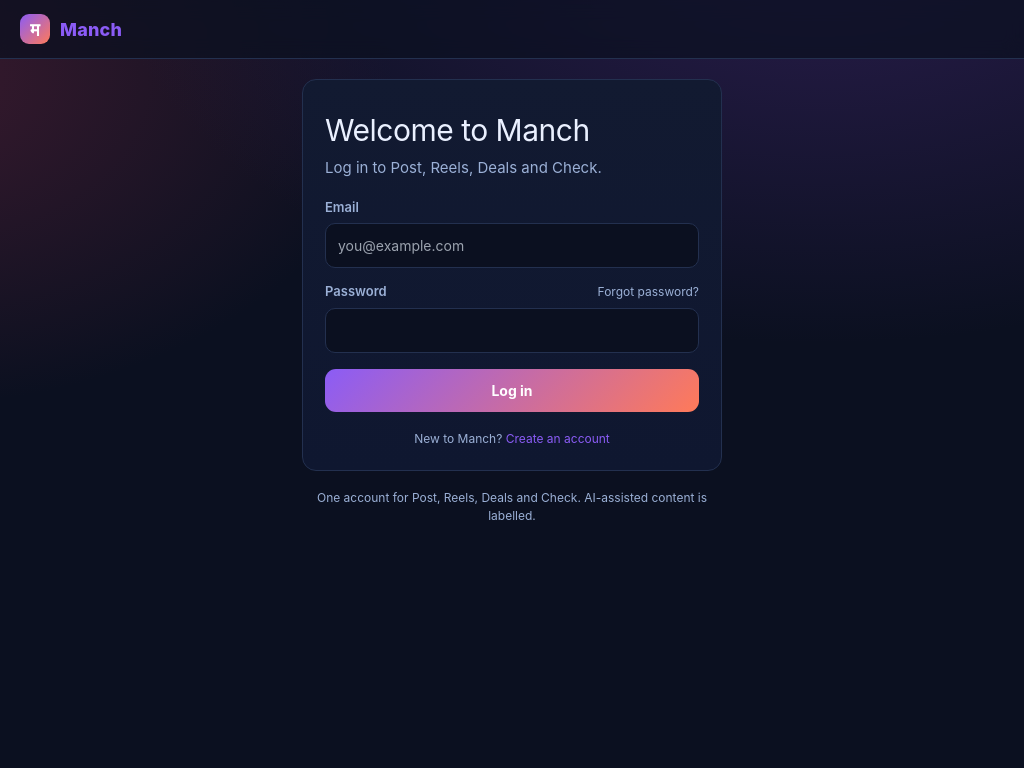
Test: Login (email + password) › shows a friendly error for wrong credentials
The image size is (1024, 768).
In the field labelled "Email": (512, 246) [325,223,699,268], type "a@b.co"
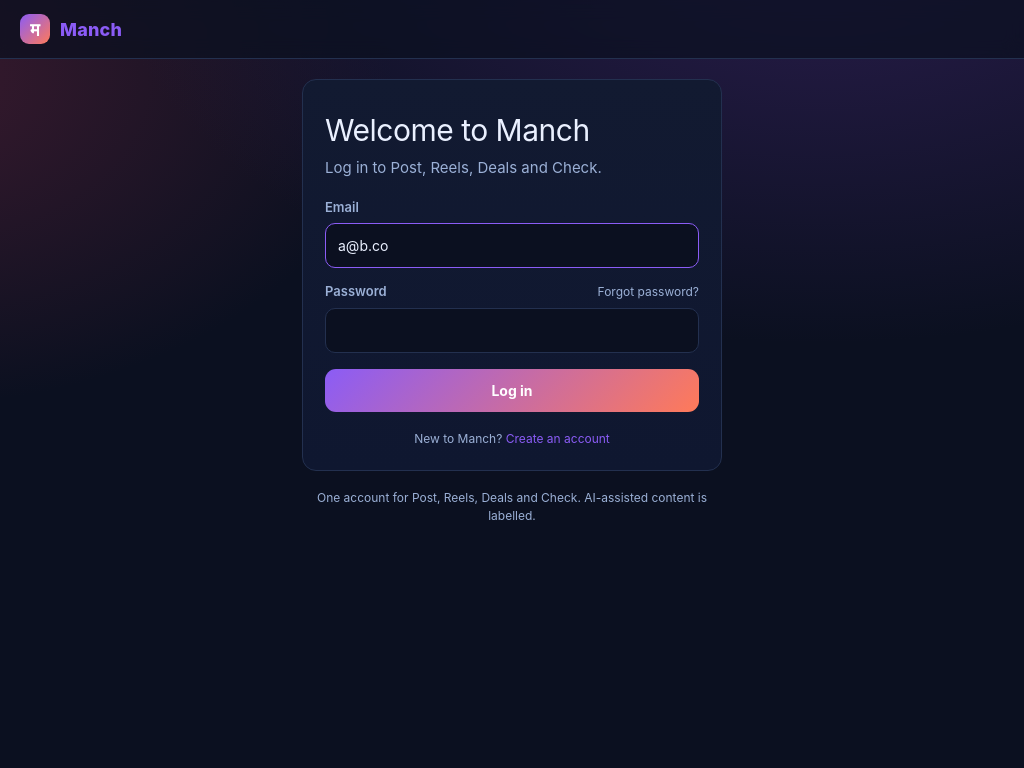
In the password field labelled "Password": (512, 330) [325,308,699,352], type "wrong1234"
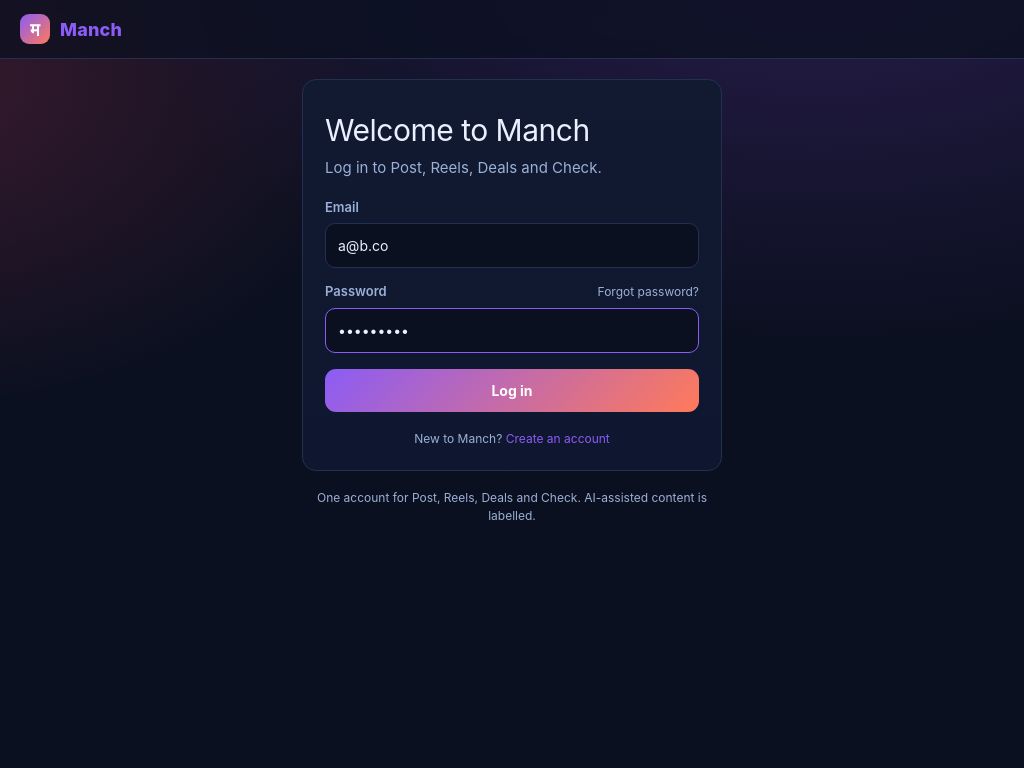
Click the button "Log in": (512, 390) [325,368,699,412]
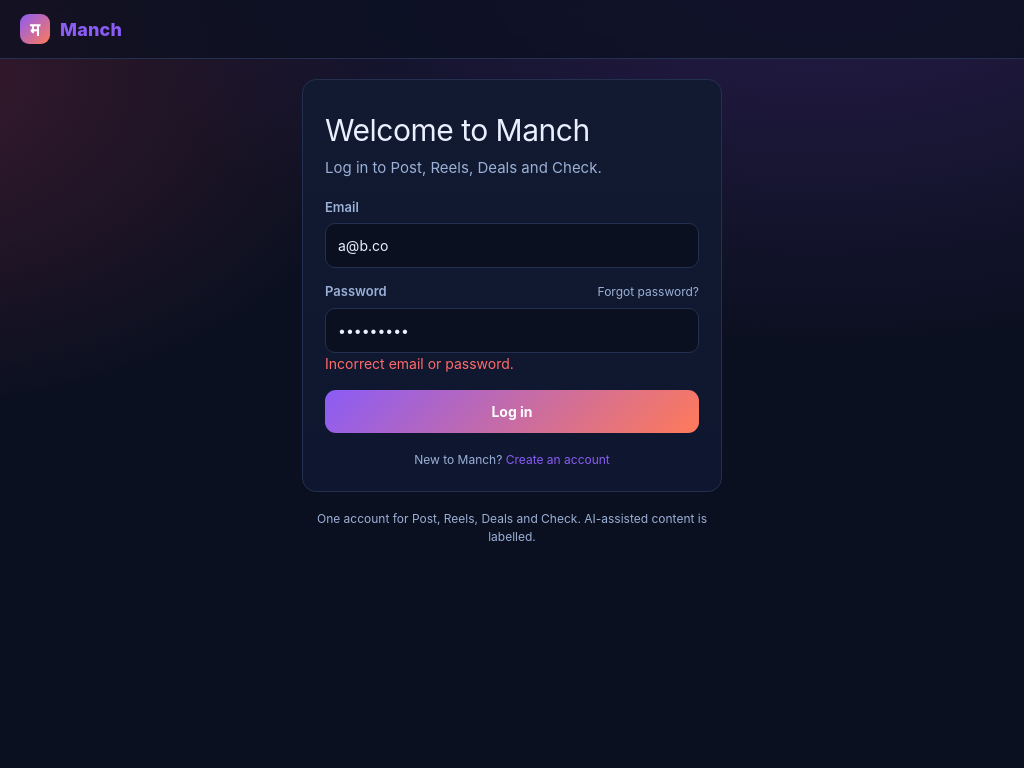
Expected: the message reads "Incorrect email or password.", [325,354,514,372]
